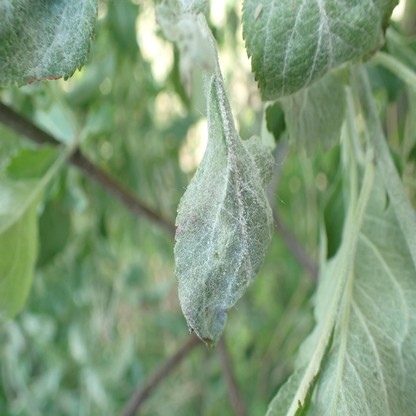powder: (266, 162, 416, 416), (173, 75, 277, 349), (242, 1, 385, 103), (0, 1, 98, 89)
